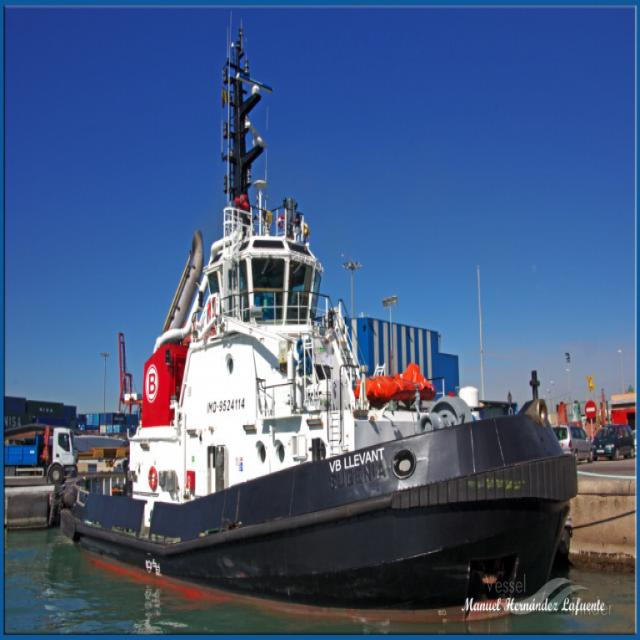tugboat: (63, 46, 576, 612)
